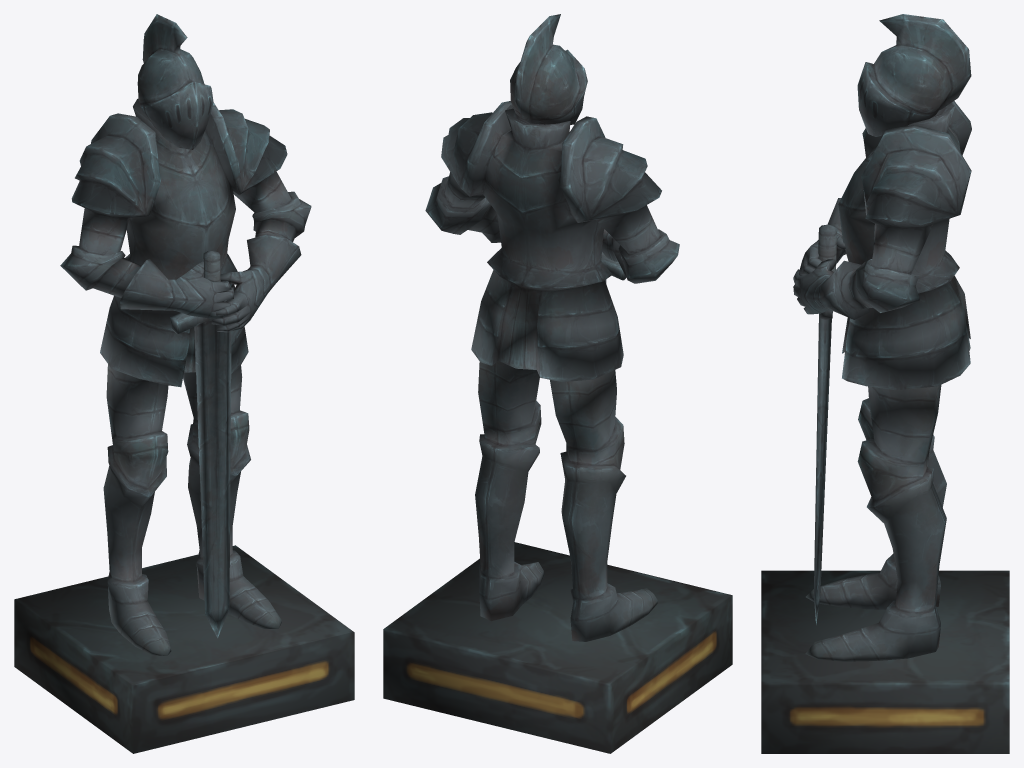
File: knightStatue2.glb
The picture shows the model from 3 angles, left to right: view 1: azimuth 30°, elevation 25°; view 2: azimuth 150°, elevation 25°; view 3: azimuth 270°, elevation 25°; orthographic projection. The views are drawn at different scales.
Visible parts, largest first — view 1: knight_1; view 2: knight_1; view 3: knight_1.
Boxes of the visible parts, bbox=[...] form: knight_1: bbox=[14, 14, 354, 753]; knight_1: bbox=[383, 14, 732, 753]; knight_1: bbox=[761, 14, 1009, 753].
Size of what is drawn, in the model's own units: 0.8752 by 2.26 by 0.7443.
2 materials, 2 textured.
